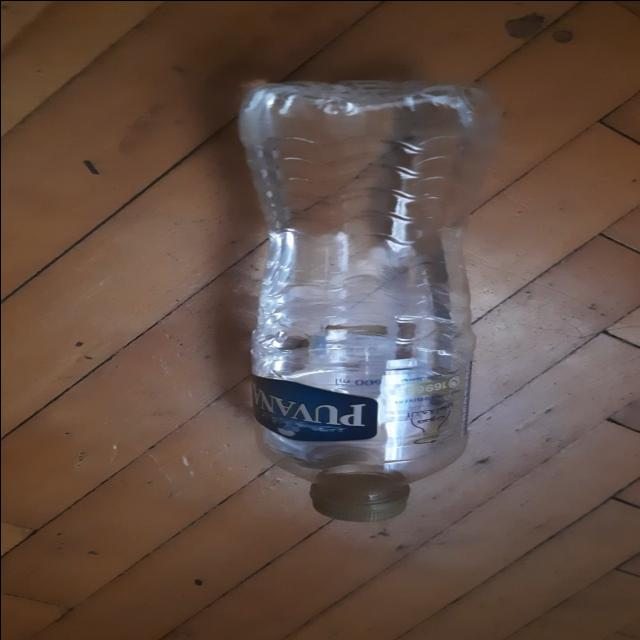Plastic: (237, 76, 500, 520)
